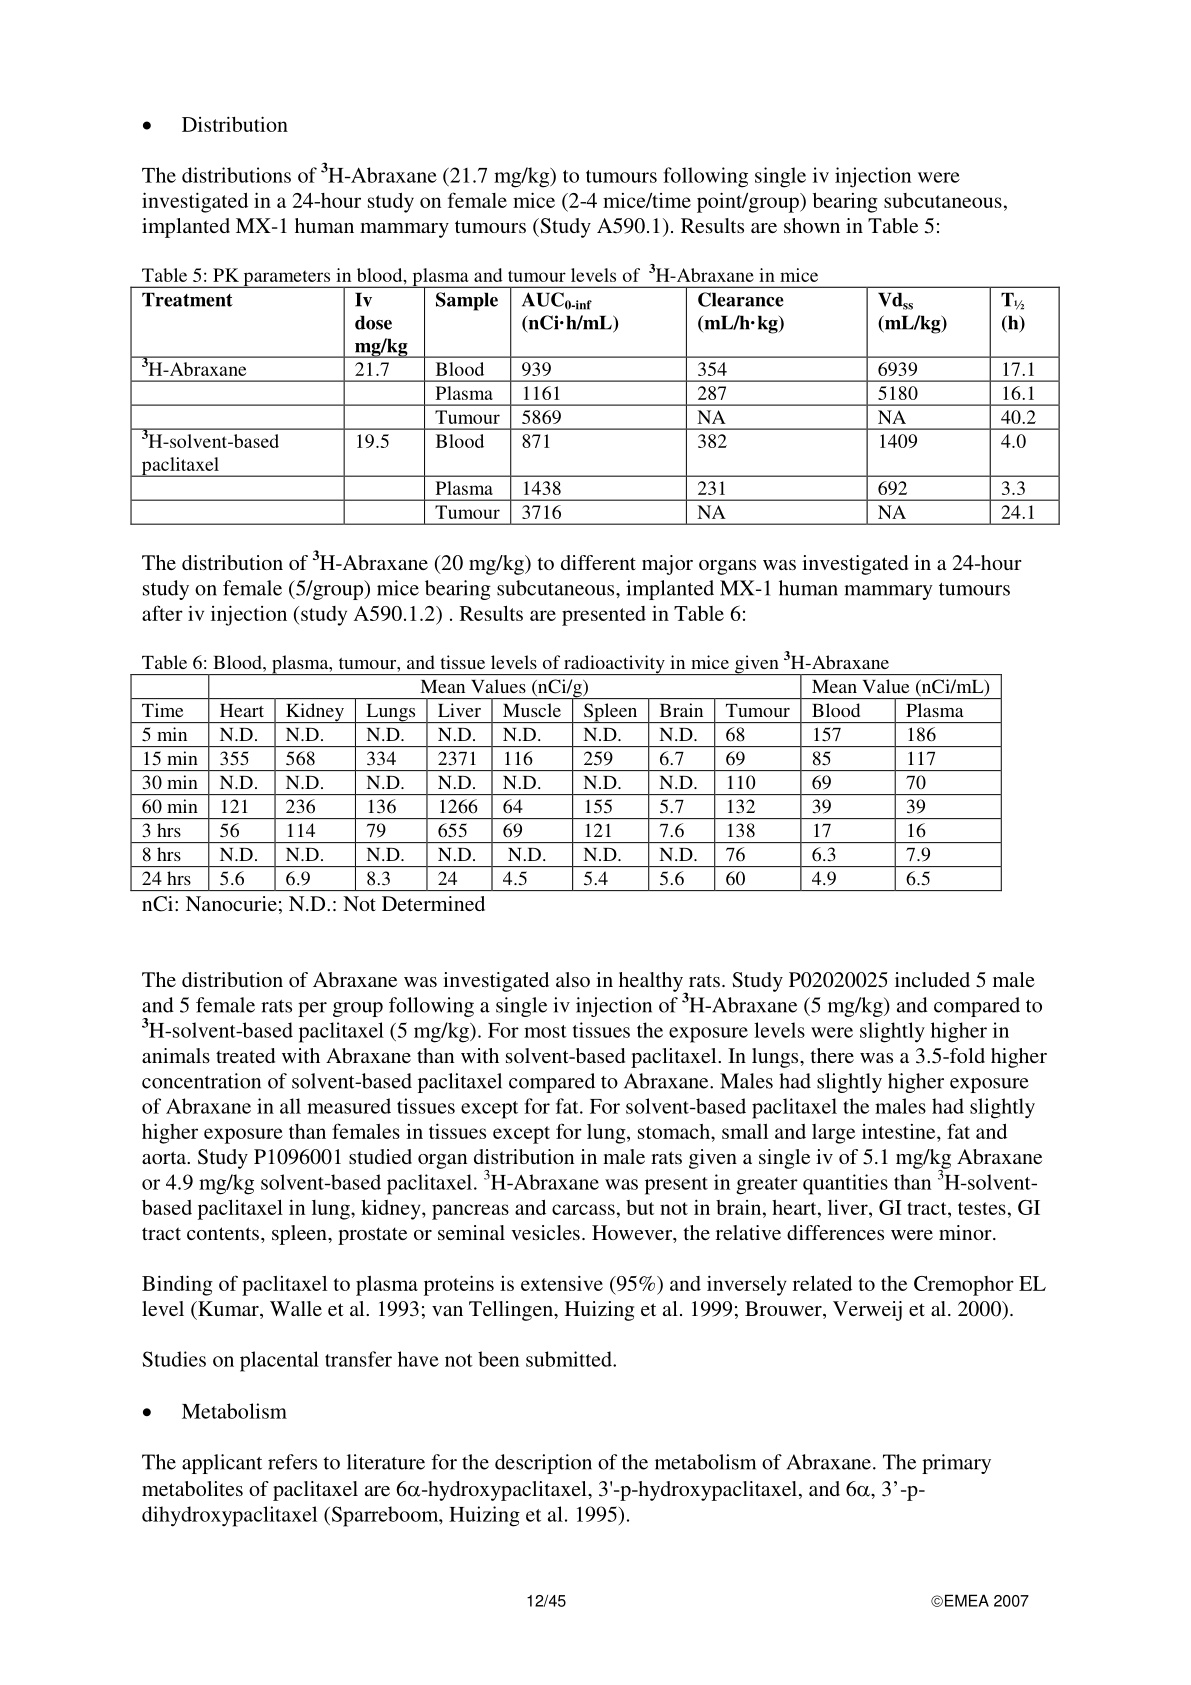full_lined: (129, 286, 1060, 525)
merged_cells: (129, 672, 1004, 893)
